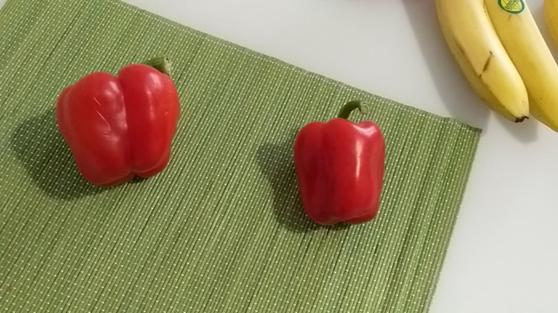banana: (432, 1, 536, 129), (493, 1, 558, 132)
pepper: (63, 58, 193, 191), (298, 100, 390, 229)
